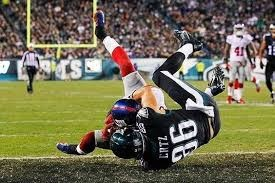falling: (52, 13, 226, 165)
